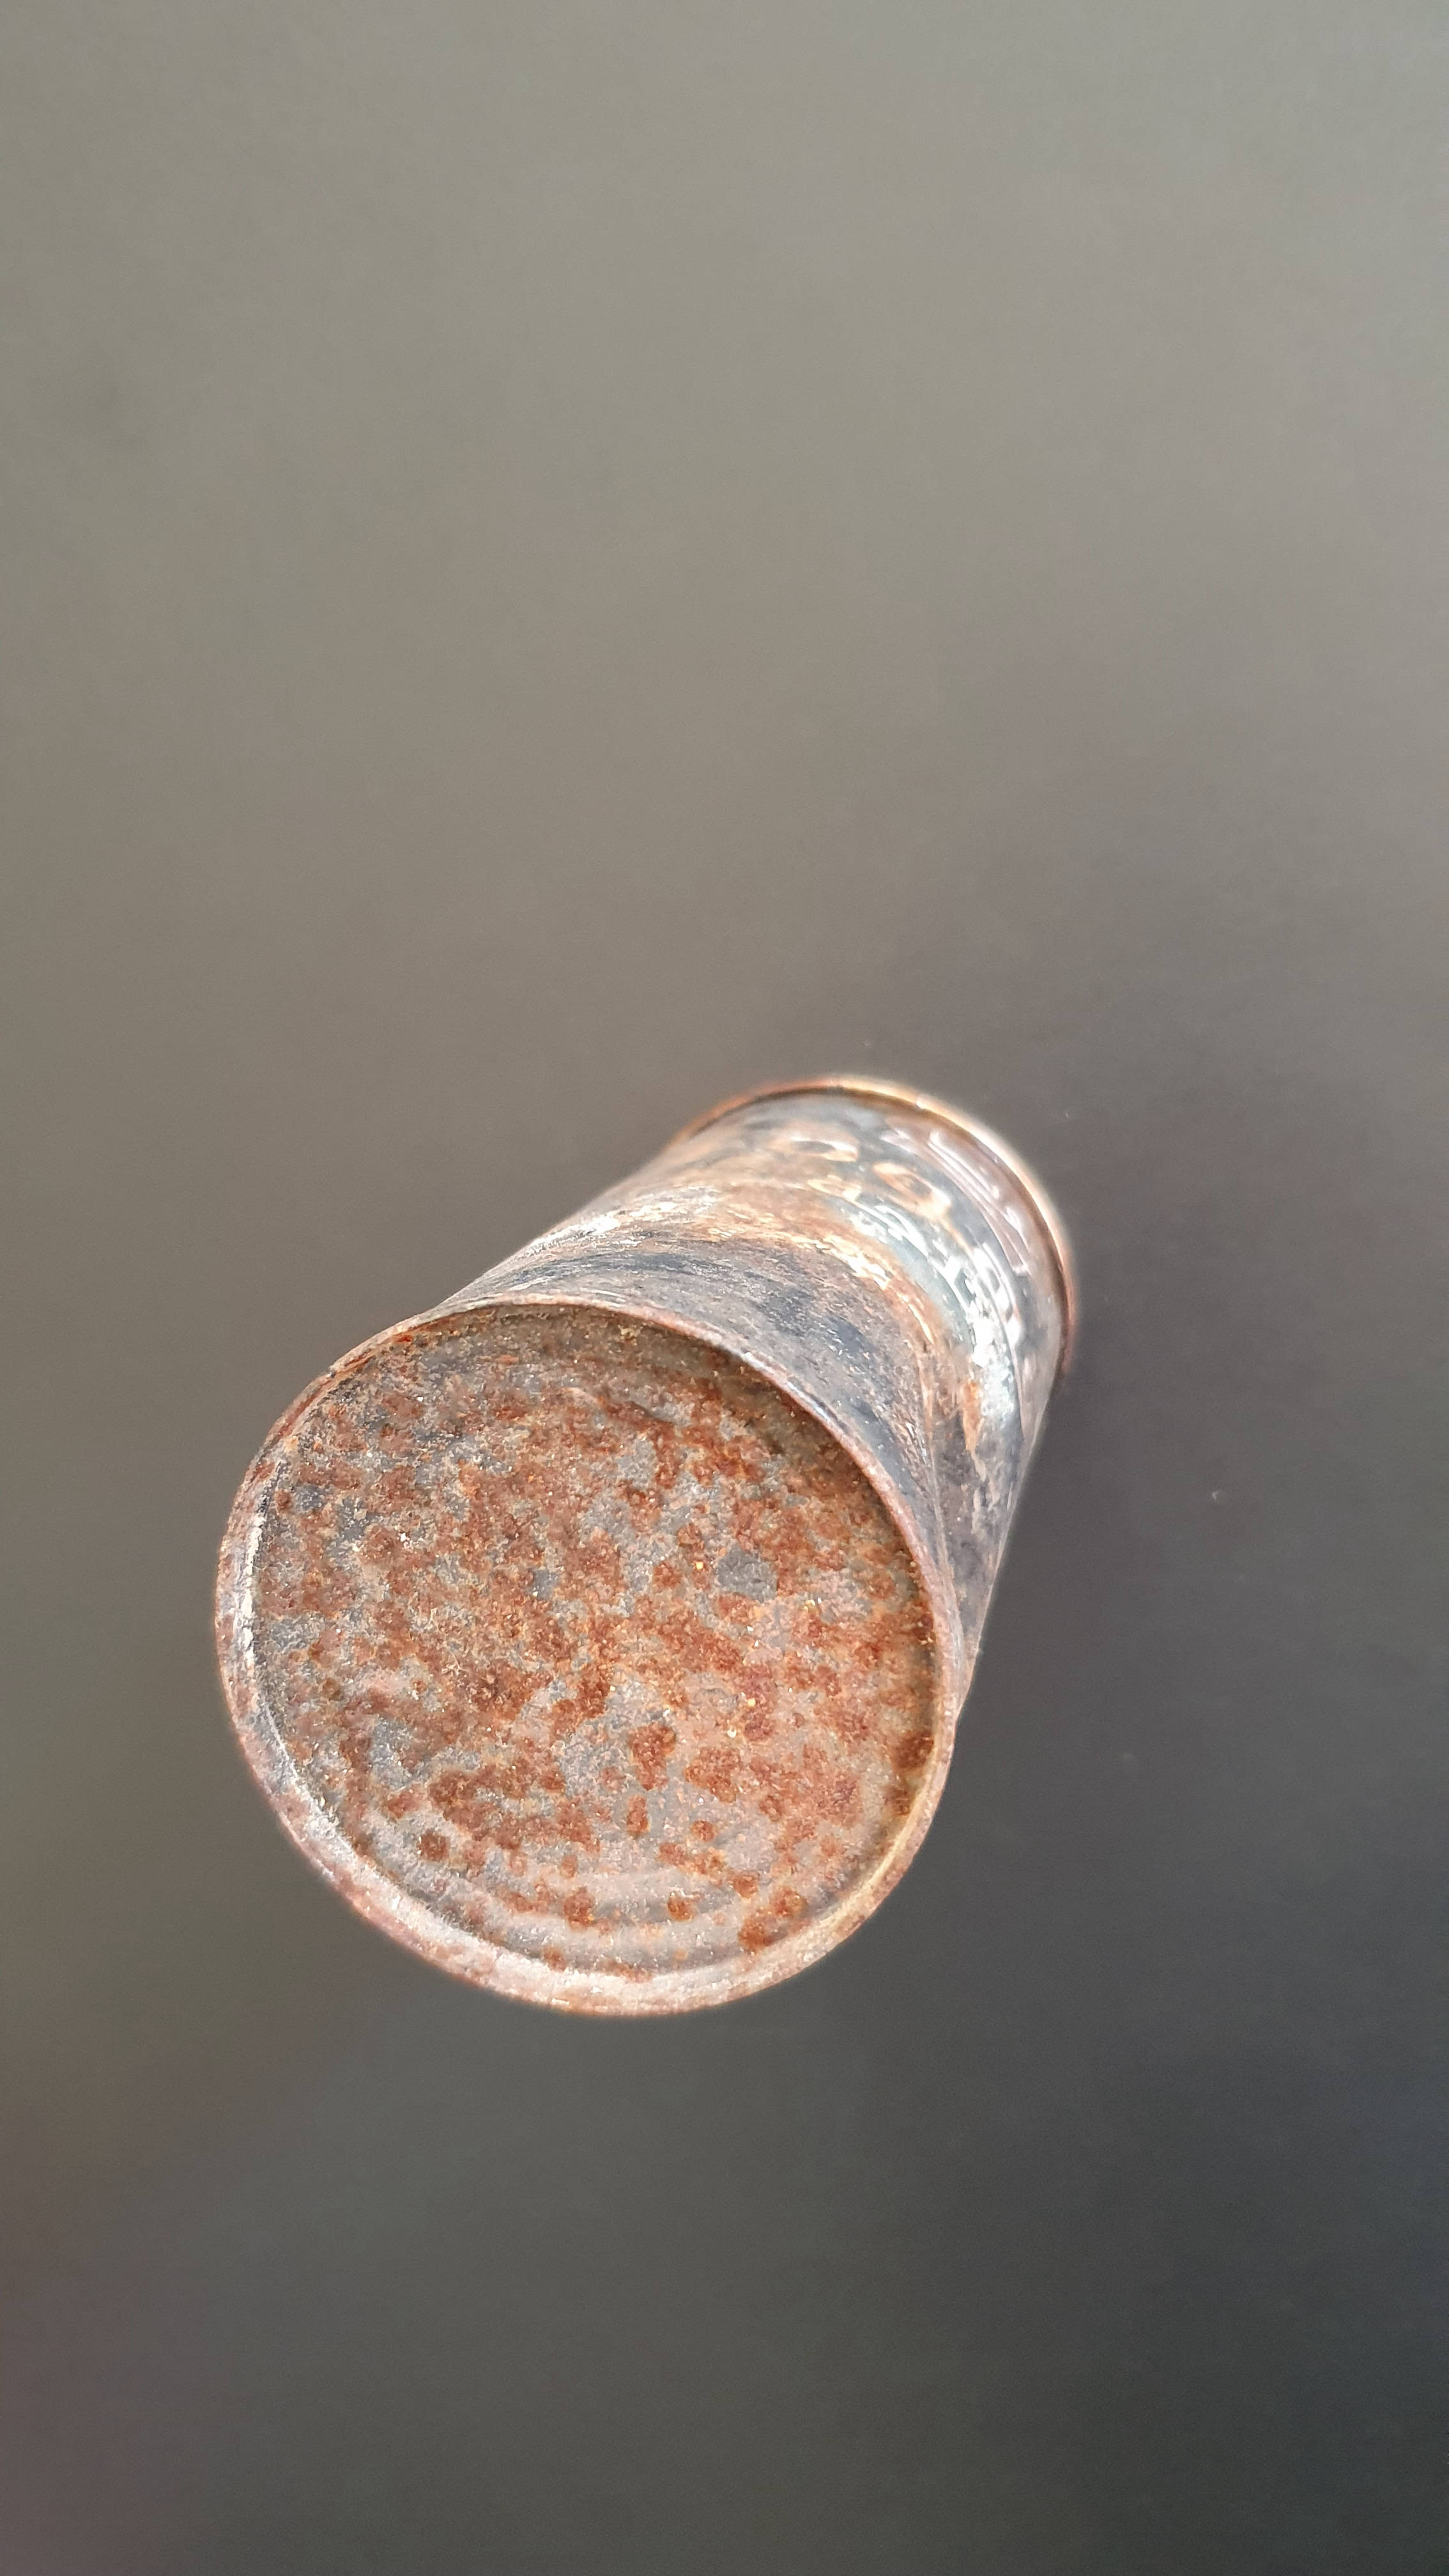metal: (182, 962, 1129, 2040)
